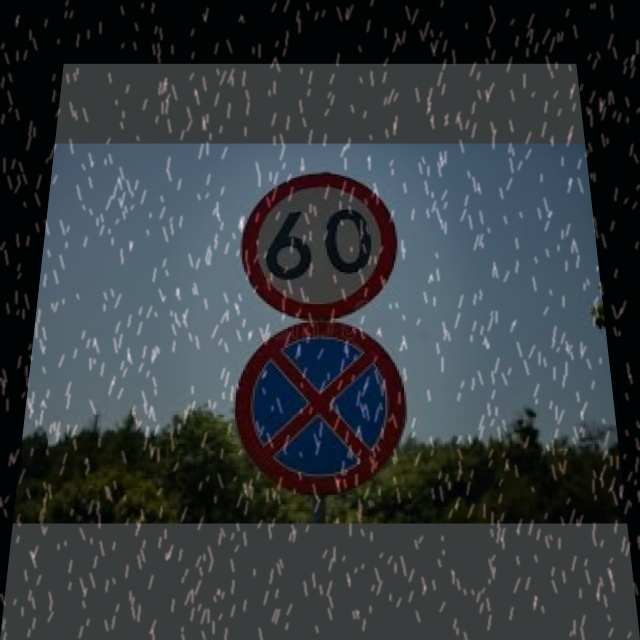Speed_Limit_60: (243, 173, 397, 320)
